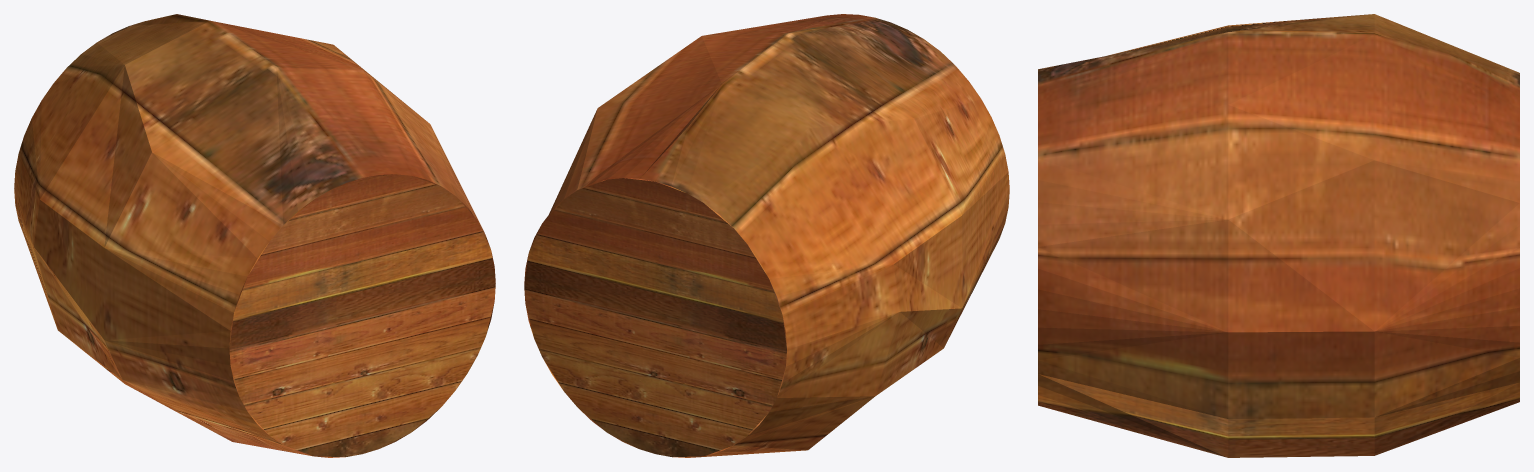
The model's file is barrel1_wtf.obj.
3 renders of one model, left to right at view 1: azimuth 30°, elevation 25°; view 2: azimuth 150°, elevation 25°; view 3: azimuth 270°, elevation 25°, orthographic. The views are drawn at different scales.
Parts seen in each view (by area): view 1: group2; view 2: group2; view 3: group2.
Part boxes in pixels (box(x1,y1,x2,y2)): group2: box(14, 14, 495, 457); group2: box(524, 14, 1009, 457); group2: box(1038, 14, 1519, 457).
Bounding box in the file's own units: 620 × 607 × 660.
